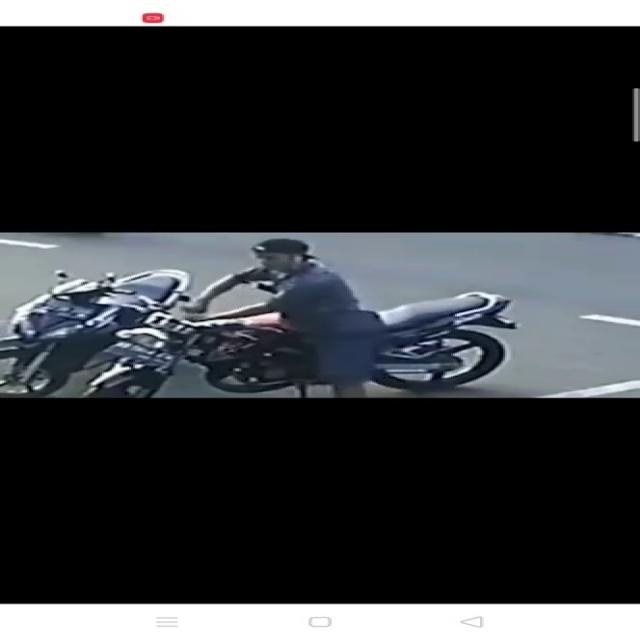pencurian: (119, 237, 509, 394)
